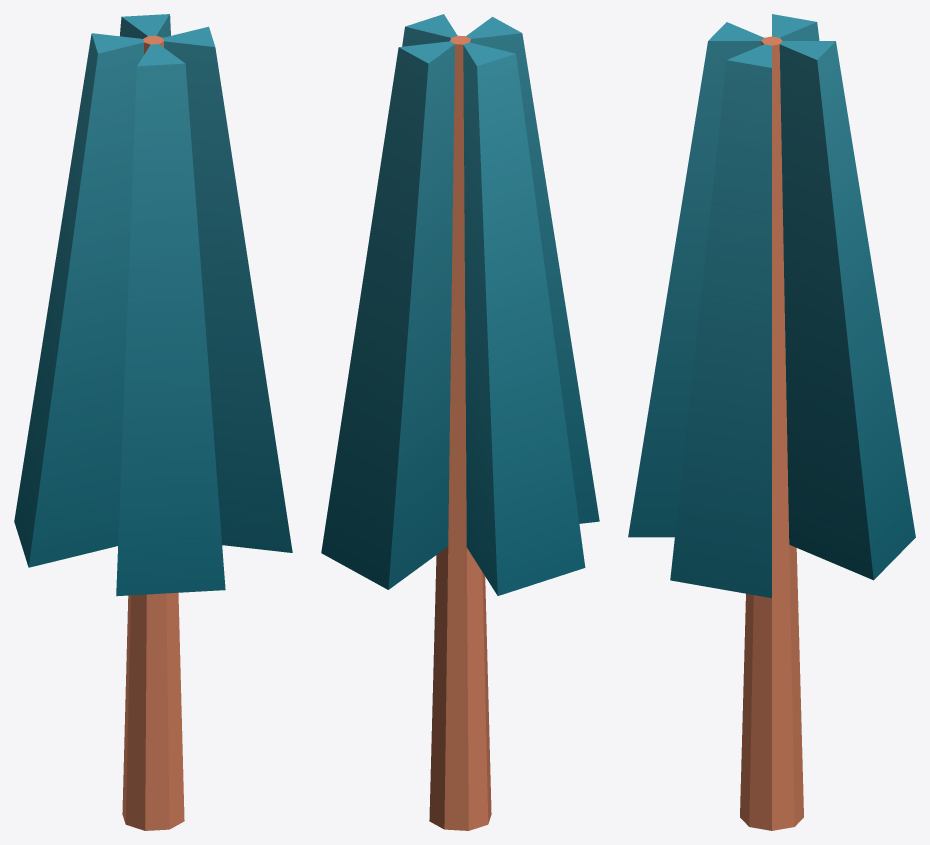
The model's file is Tree_28_gradient_blue.fbx.
3 views of the same model, side by side, from view 1: azimuth 30°, elevation 25°; view 2: azimuth 150°, elevation 25°; view 3: azimuth 270°, elevation 25° (orthographic).
Parts seen in each view (by area): view 1: Tree_28_gradient_blue; view 2: Tree_28_gradient_blue; view 3: Tree_28_gradient_blue.
Boxes of the visible parts, left/top/right/bottom form: Tree_28_gradient_blue: left=14, top=14, right=292, bottom=830; Tree_28_gradient_blue: left=321, top=14, right=599, bottom=830; Tree_28_gradient_blue: left=628, top=14, right=915, bottom=830.
Size of the model in its own units: 98.97 by 294 by 98.97.
